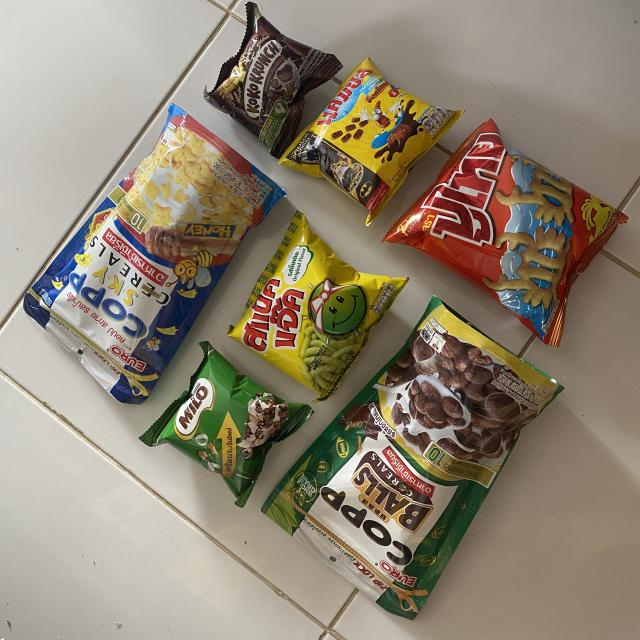plastik: (262, 296, 562, 619), (24, 104, 285, 404), (395, 119, 628, 346), (229, 211, 408, 401), (140, 341, 314, 508), (288, 59, 454, 224), (204, 2, 342, 159)
